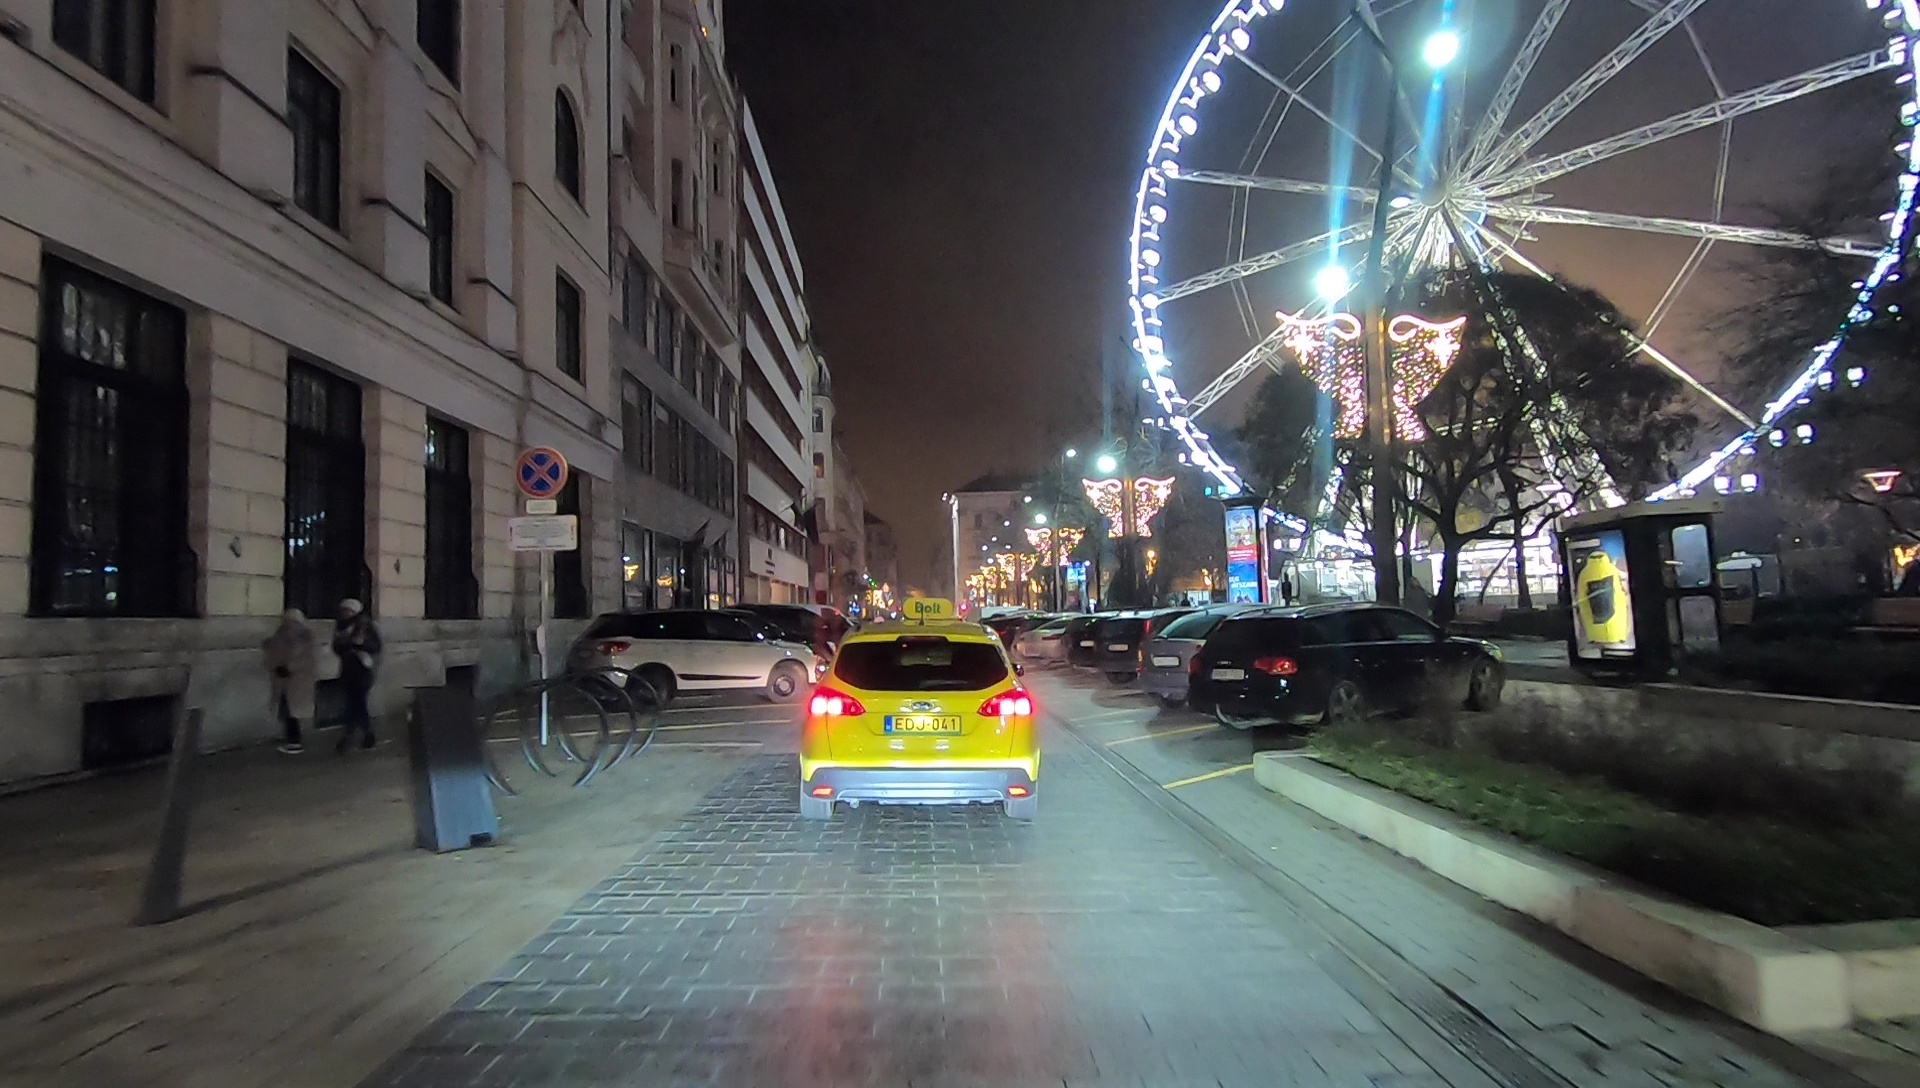person: (264, 608, 315, 758), (330, 604, 376, 754)
